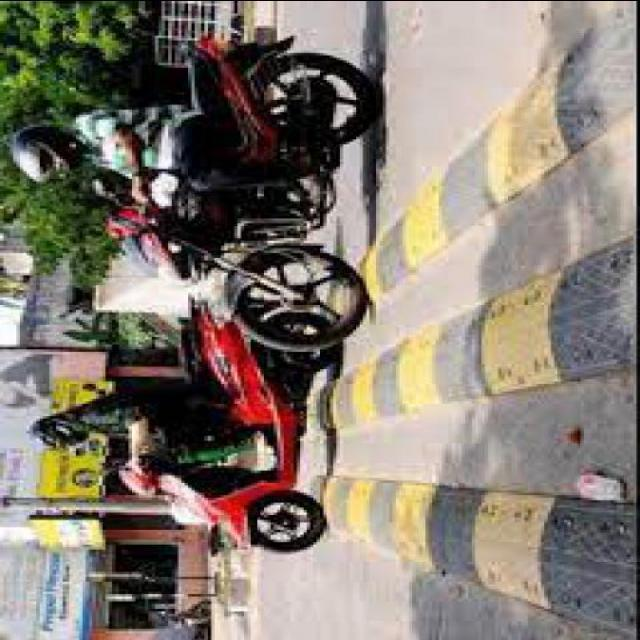speedbreaker: (318, 30, 640, 640)
